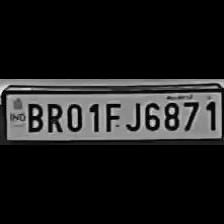0: (62, 101, 84, 133)
1: (200, 98, 218, 132), (83, 101, 101, 133)
6: (141, 98, 161, 132)
7: (181, 98, 199, 132)
8: (159, 98, 179, 132)
B: (23, 101, 43, 133)
F: (100, 100, 120, 132)
J: (123, 98, 141, 132)
R: (44, 100, 64, 134)
